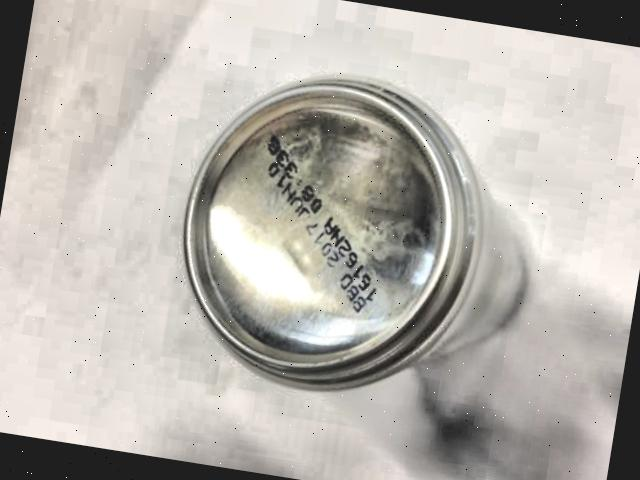Bottles: (132, 38, 598, 442)
